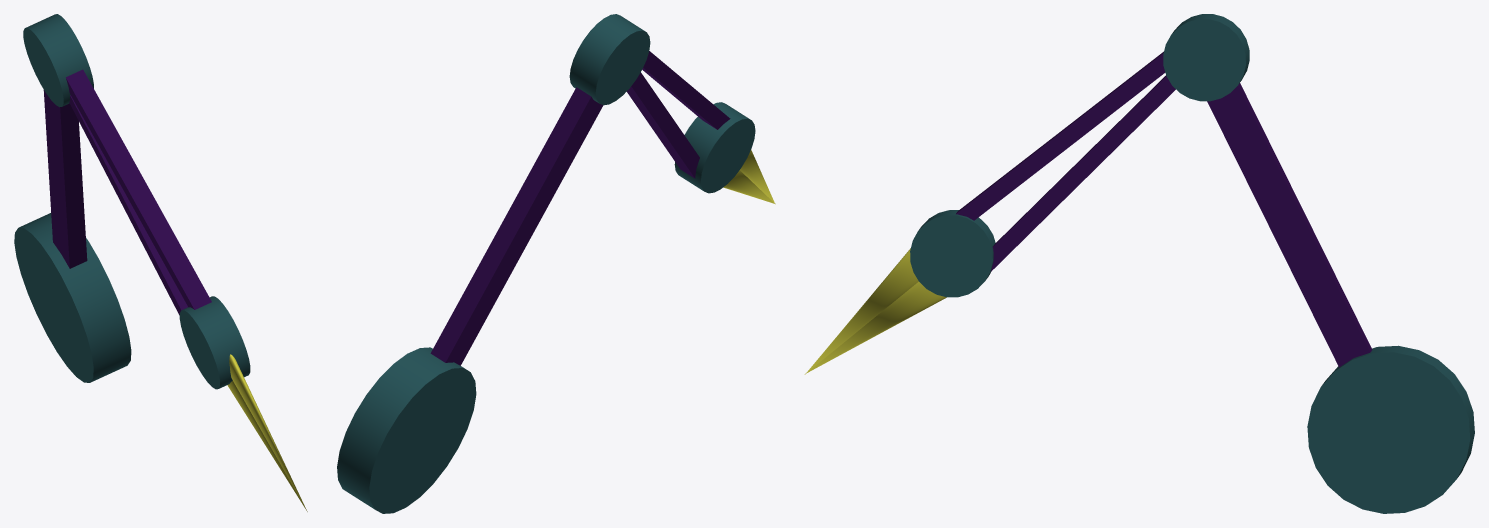
File: servo.fbx
3 renders of one model, left to right at view 1: azimuth 30°, elevation 25°; view 2: azimuth 150°, elevation 25°; view 3: azimuth 270°, elevation 25°, orthographic. The views are drawn at different scales.
Visible parts, largest first — view 1: ServoShoulder, ServoForeArmOuter, ServoUpperArm, ServoWrist, ServoElbow, ServoForeArmInner, ServoJawUpper, ServoJawLower; view 2: ServoShoulder, ServoUpperArm, ServoElbow, ServoWrist, ServoForeArmInner, ServoForeArmOuter, ServoJawLower, ServoJawUpper; view 3: ServoShoulder, ServoUpperArm, ServoElbow, ServoWrist, ServoForeArmOuter, ServoForeArmInner, ServoJawUpper, ServoJawLower.
Part boxes in pixels (x1=…): ServoShoulder: x1=14, y1=213, x2=131, y2=382; ServoForeArmOuter: x1=66, y1=69, x2=211, y2=309; ServoUpperArm: x1=43, y1=90, x2=87, y2=268; ServoWrist: x1=179, y1=296, x2=250, y2=389; ServoElbow: x1=23, y1=14, x2=93, y2=107; ServoForeArmInner: x1=69, y1=95, x2=187, y2=315; ServoJawUpper: x1=229, y1=354, x2=306, y2=510; ServoJawLower: x1=227, y1=380, x2=307, y2=511; ServoShoulder: x1=337, y1=347, x2=476, y2=513; ServoUpperArm: x1=430, y1=87, x2=603, y2=365; ServoElbow: x1=569, y1=14, x2=650, y2=105; ServoWrist: x1=674, y1=102, x2=755, y2=193; ServoForeArmInner: x1=626, y1=72, x2=699, y2=178; ServoForeArmOuter: x1=642, y1=51, x2=730, y2=129; ServoJawLower: x1=723, y1=170, x2=775, y2=203; ServoJawUpper: x1=740, y1=149, x2=774, y2=202; ServoShoulder: x1=1307, y1=345, x2=1474, y2=513; ServoUpperArm: x1=1207, y1=83, x2=1372, y2=367; ServoElbow: x1=1163, y1=14, x2=1249, y2=101; ServoWrist: x1=910, y1=210, x2=995, y2=297; ServoForeArmOuter: x1=956, y1=51, x2=1165, y2=220; ServoForeArmInner: x1=990, y1=75, x2=1175, y2=271; ServoJawUpper: x1=805, y1=248, x2=918, y2=374; ServoJawLower: x1=804, y1=281, x2=946, y2=374.
Bounding box in the file's own units: 26.46 × 65.76 × 91.37.
